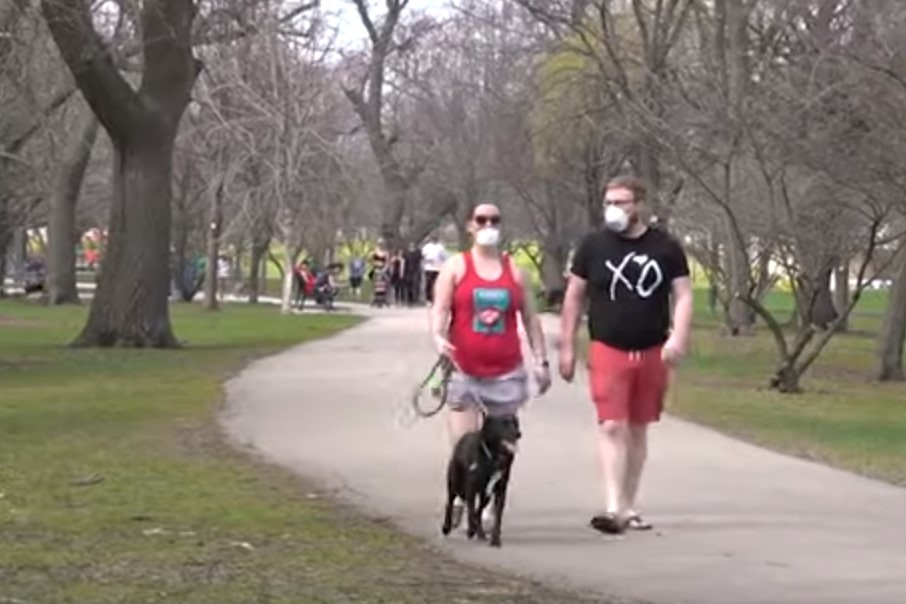face_with_mask: (597, 177, 647, 235), (465, 203, 507, 250)
